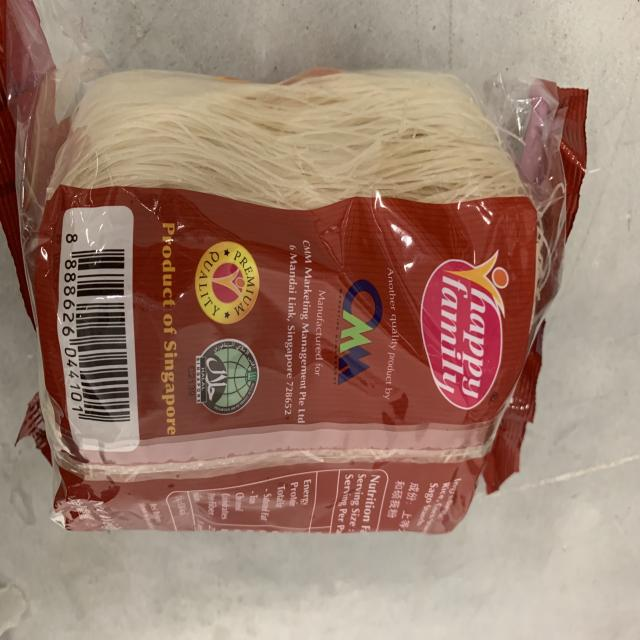object_name: (36, 119, 485, 536)
